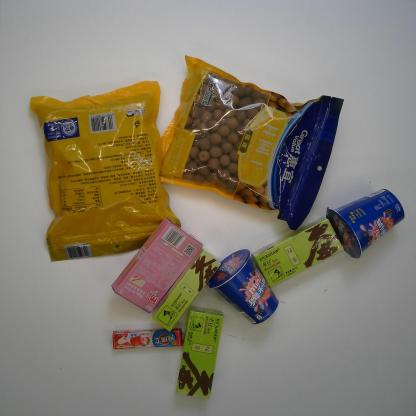Candy: (112, 327, 184, 350)
Dessert: (110, 215, 204, 313), (325, 187, 406, 259), (207, 248, 279, 326)
Dried Food: (157, 54, 346, 230), (28, 79, 182, 264)
Instant Drink: (250, 214, 345, 289), (151, 246, 222, 332), (175, 305, 225, 401)
